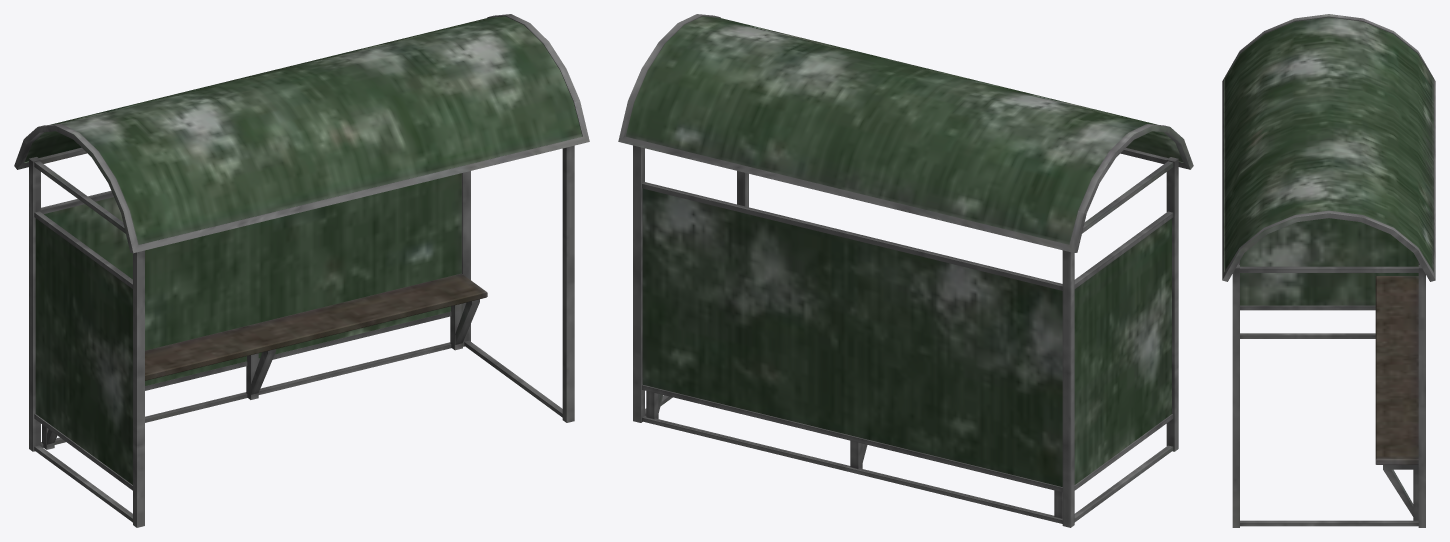
File: Bus_Stop.glb
The picture shows the model from 3 angles, left to right: view 1: azimuth 30°, elevation 25°; view 2: azimuth 150°, elevation 25°; view 3: azimuth 270°, elevation 25°; orthographic projection. The views are drawn at different scales.
Visible parts, largest first — view 1: Bus_Stop; view 2: Bus_Stop; view 3: Bus_Stop.
Part boxes in pixels (x1,y1,x2,y2): Bus_Stop: (14, 14, 589, 527); Bus_Stop: (618, 14, 1193, 527); Bus_Stop: (1222, 14, 1435, 527).
Bounding box in the file's own units: 5.31 × 3.96 × 2.4.
Materials: 1 (1 with a texture image).
